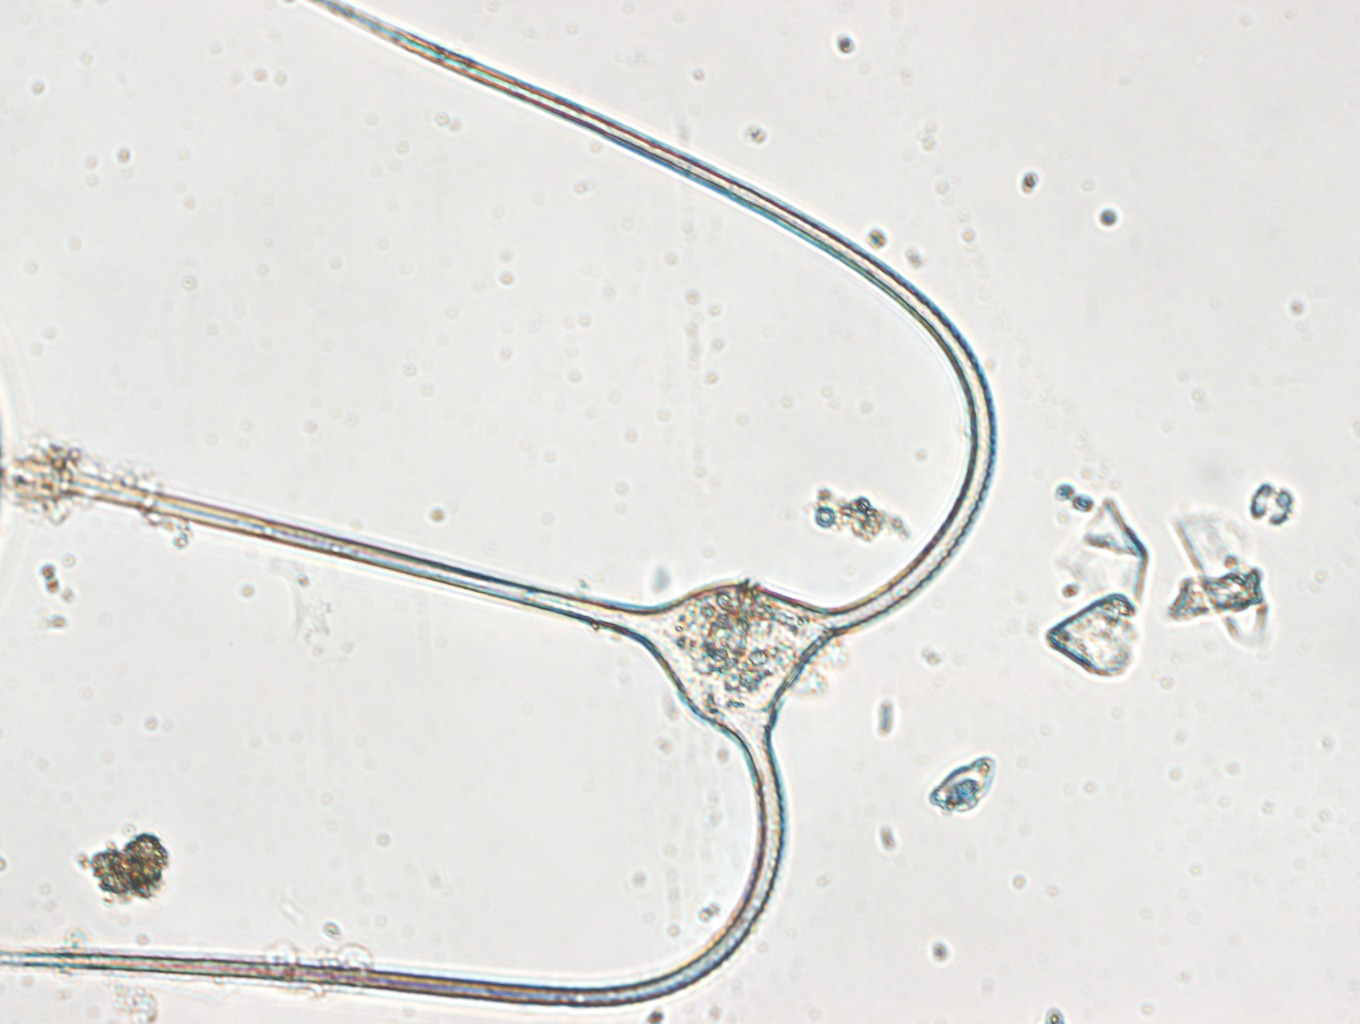ceratium trichoceros: (1, 1, 996, 1009)
